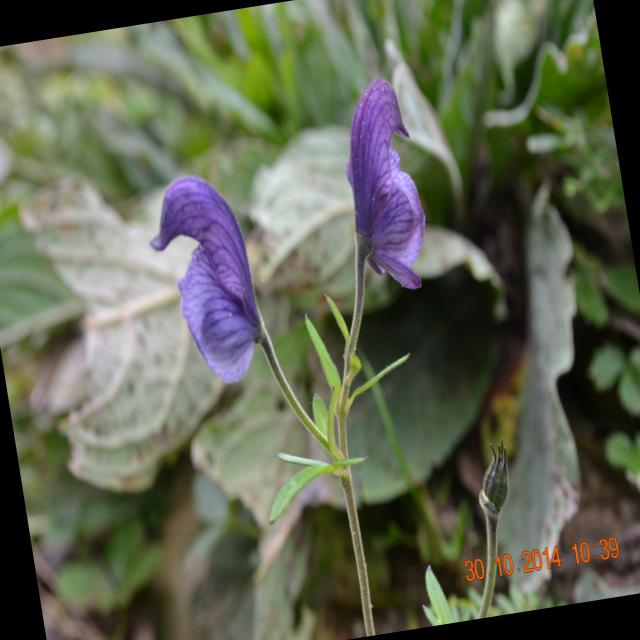Meetha: (20, 11, 588, 640), (284, 22, 601, 480), (102, 143, 368, 512)
